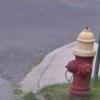Hydrant: (53, 21, 100, 100)
